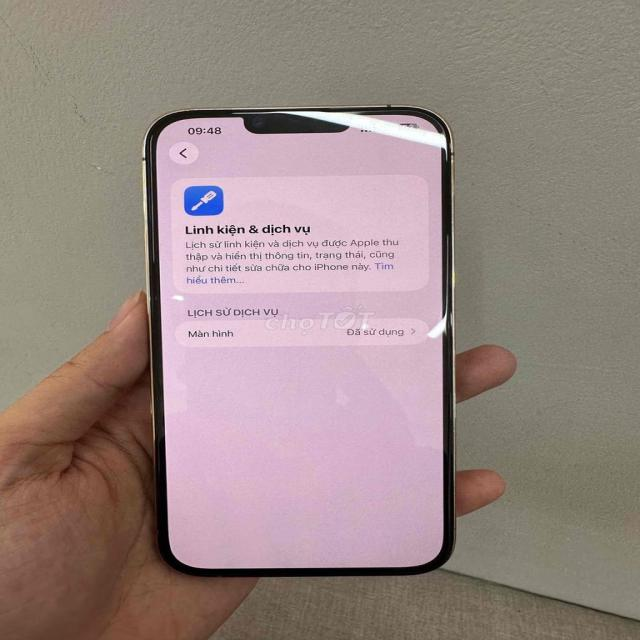gen_12_13: (144, 103, 458, 581)
